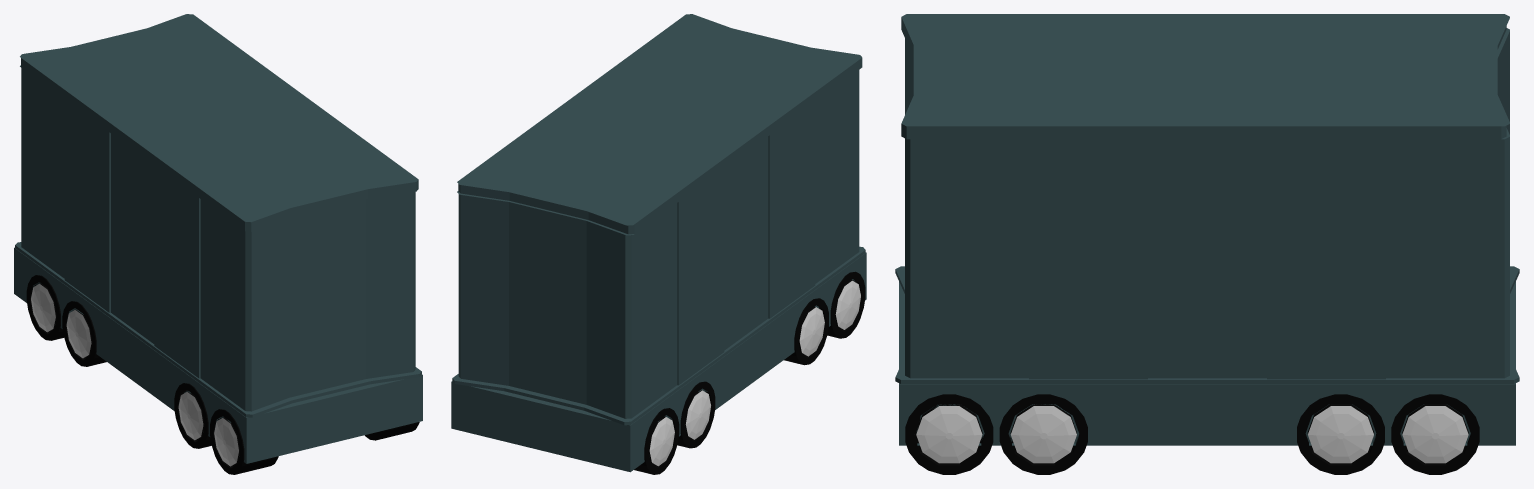
The model's file is BackTruck_02.fbx.
3 views of the same model, side by side, from view 1: azimuth 30°, elevation 25°; view 2: azimuth 150°, elevation 25°; view 3: azimuth 270°, elevation 25° (orthographic). The views are drawn at different scales.
Visible parts, largest first — view 1: BackTruck_02; view 2: BackTruck_02; view 3: BackTruck_02.
Part boxes in pixels (box(x1,y1,x2,y2)): BackTruck_02: box(14, 14, 422, 474); BackTruck_02: box(451, 14, 866, 474); BackTruck_02: box(895, 14, 1519, 474).
Bounding box in the file's own units: 618 × 852 × 1386.
